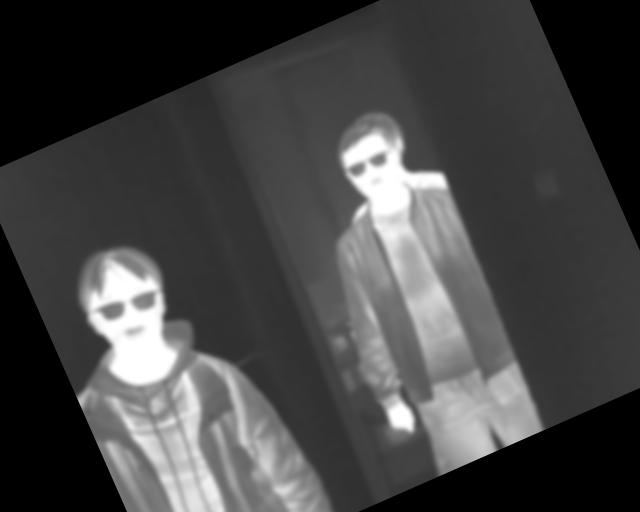face: (62, 231, 185, 368), (326, 108, 418, 210)
